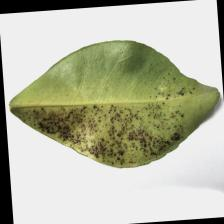canker: (32, 109, 184, 160)
